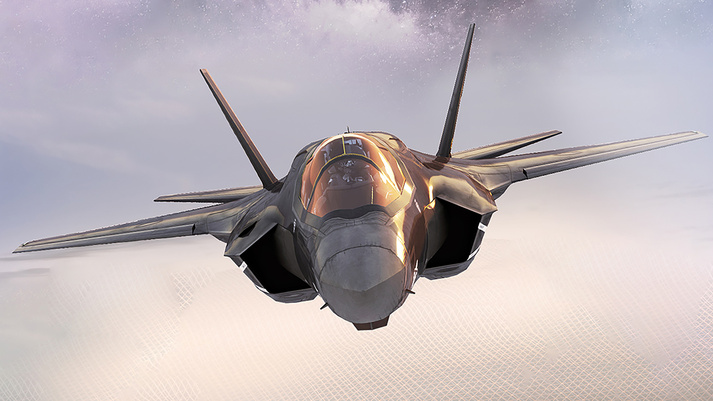F-35 Lightning: (77, 25, 673, 345)
